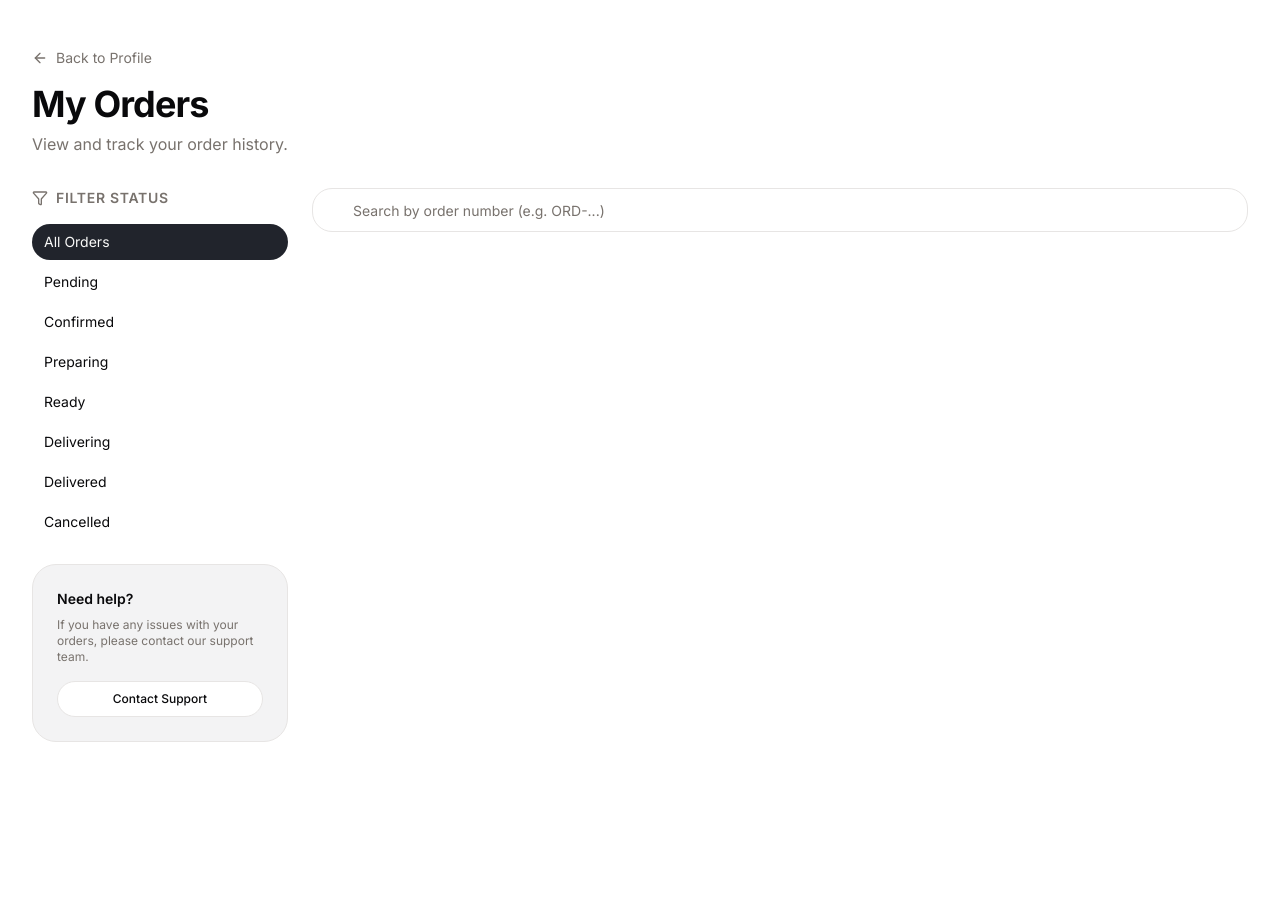
Test: orders UI status alignment › allows filtering by backend semantic order statuses
Click the button "Preparing" at [160, 362], box [32,344,288,380]
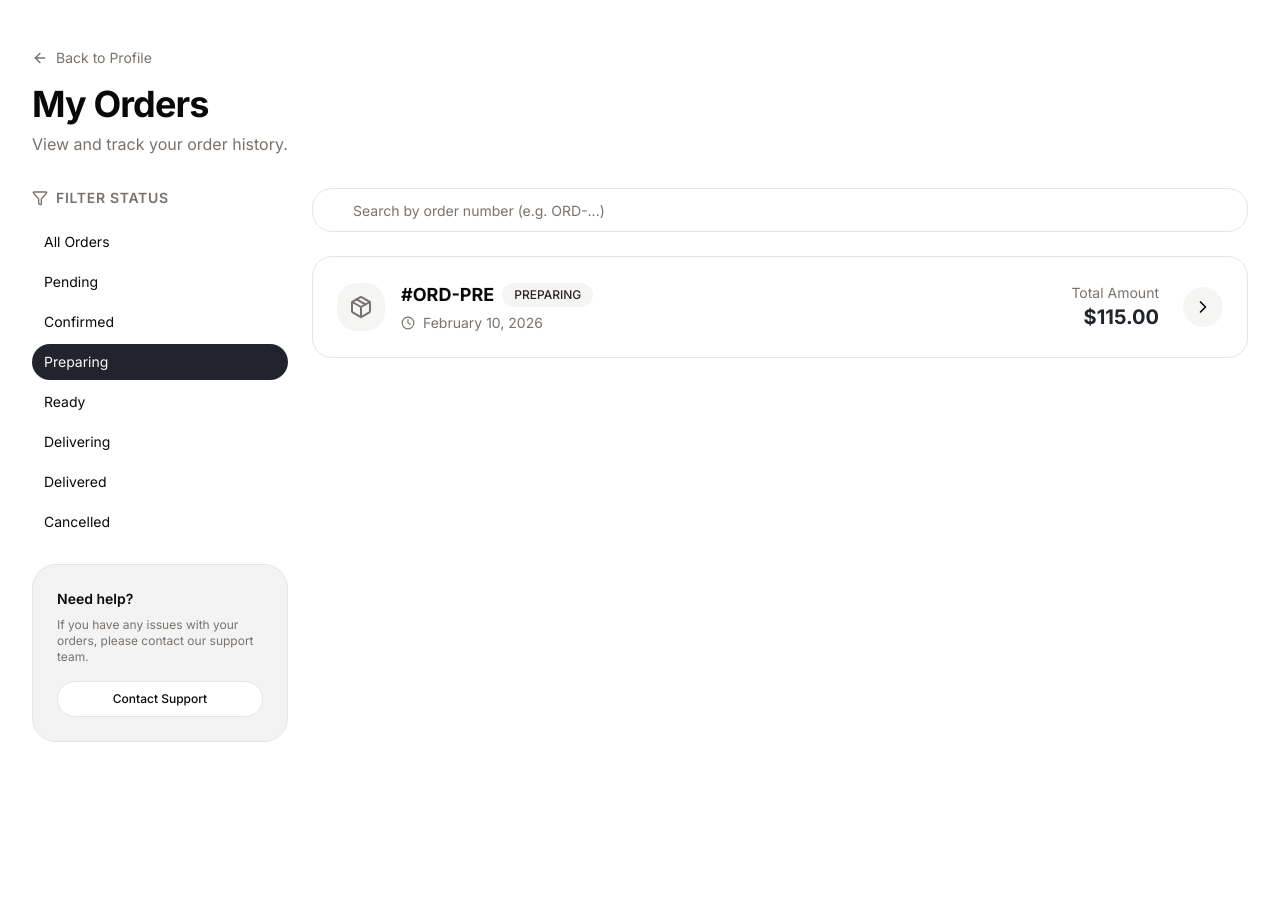
Result: the text "#ORD-PRE" is shown at [401,281,494,309]
